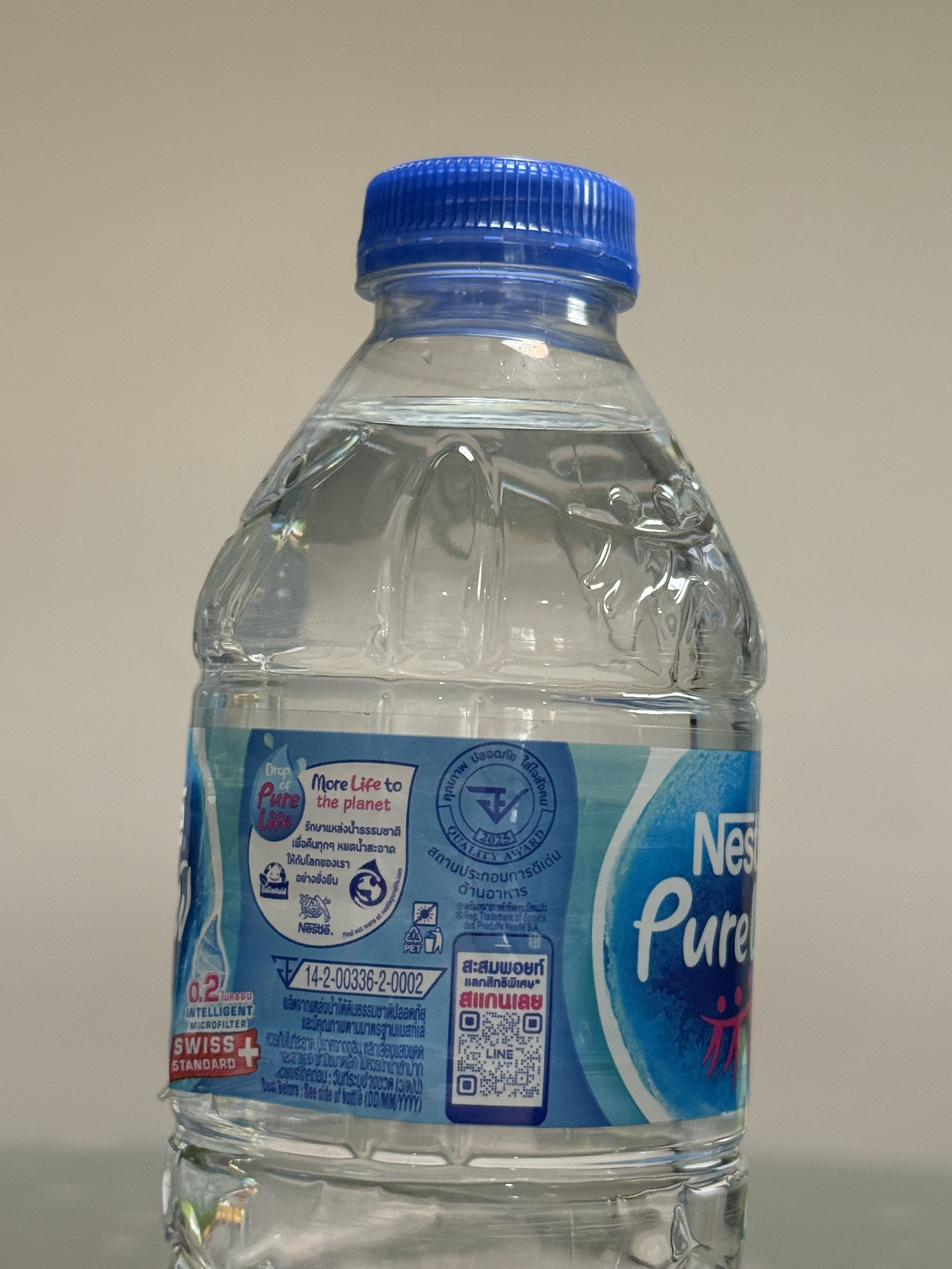closed_cap: (351, 150, 643, 308)
